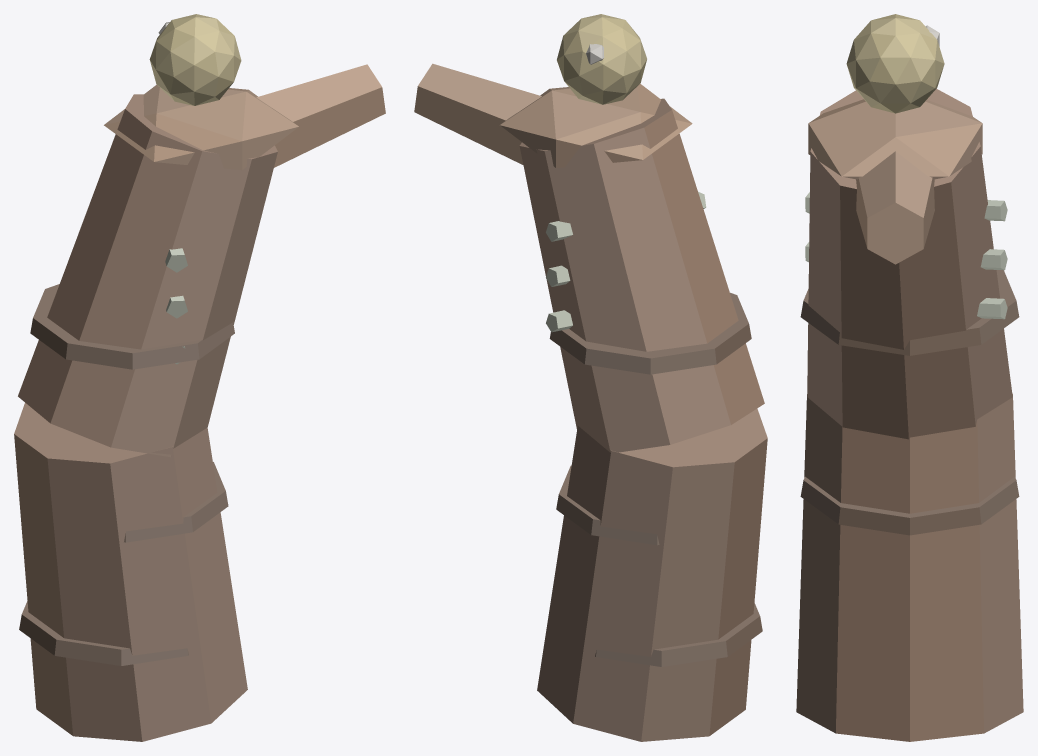
Rendered from pond_anchor_post.glb.
The picture shows the model from 3 angles, left to right: view 1: azimuth 30°, elevation 25°; view 2: azimuth 150°, elevation 25°; view 3: azimuth 270°, elevation 25°; orthographic projection. The views are drawn at different scales.
Visible parts, largest first — view 1: Carved_anchor_post_faceted_wood, Carved_anchor_post_growth_rings, Carved_anchor_post_anchor_badge, Carved_anchor_post_silk_lacing; view 2: Carved_anchor_post_faceted_wood, Carved_anchor_post_growth_rings, Carved_anchor_post_anchor_badge, Carved_anchor_post_silk_lacing; view 3: Carved_anchor_post_faceted_wood, Carved_anchor_post_growth_rings, Carved_anchor_post_anchor_badge, Carved_anchor_post_silk_lacing.
Boxes of the visible parts, left/top/right/bottom form: Carved_anchor_post_faceted_wood: left=14, top=64, right=385, bottom=741; Carved_anchor_post_growth_rings: left=19, top=284, right=234, bottom=665; Carved_anchor_post_anchor_badge: left=149, top=14, right=241, bottom=105; Carved_anchor_post_silk_lacing: left=165, top=248, right=187, bottom=364; Carved_anchor_post_faceted_wood: left=414, top=63, right=767, bottom=741; Carved_anchor_post_growth_rings: left=549, top=292, right=762, bottom=666; Carved_anchor_post_anchor_badge: left=557, top=14, right=646, bottom=104; Carved_anchor_post_silk_lacing: left=546, top=191, right=706, bottom=332; Carved_anchor_post_faceted_wood: left=796, top=88, right=1023, bottom=741; Carved_anchor_post_growth_rings: left=800, top=270, right=1019, bottom=535; Carved_anchor_post_anchor_badge: left=846, top=14, right=944, bottom=113; Carved_anchor_post_silk_lacing: left=805, top=192, right=1007, bottom=319.
Bounding box in the file's own units: 0.7206 × 1.38 × 0.3939.
